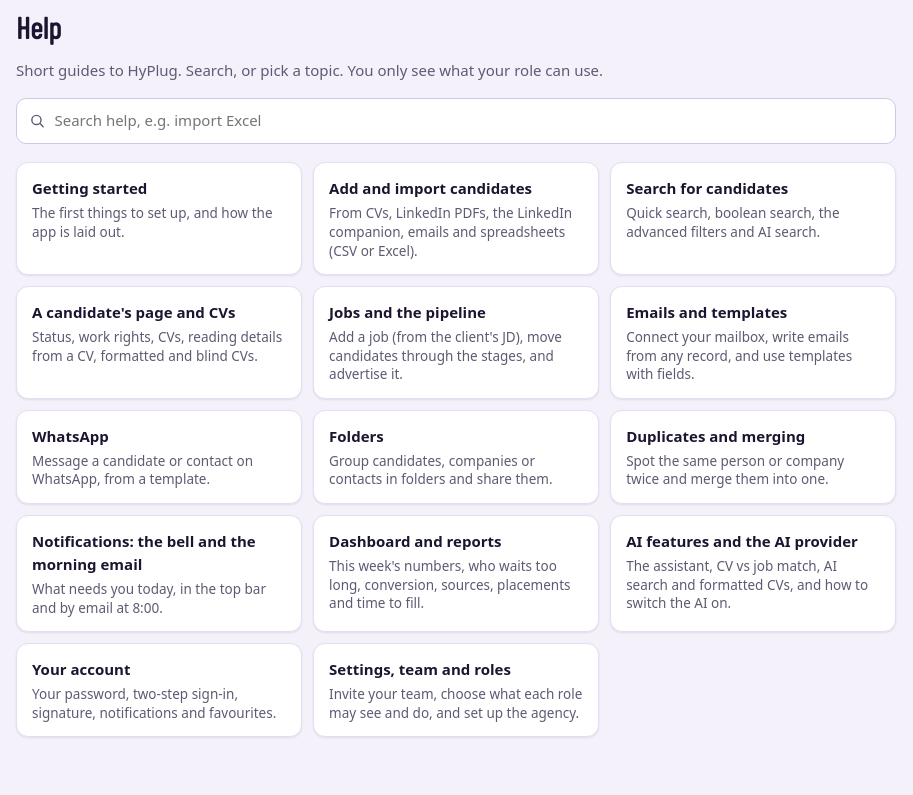
the help page › says when nothing matches, and still offers the topics
Type "spaceship" into the search field labelled "Search help" at {"x": 456, "y": 120}, box x1=16 y1=98 x2=896 y2=144
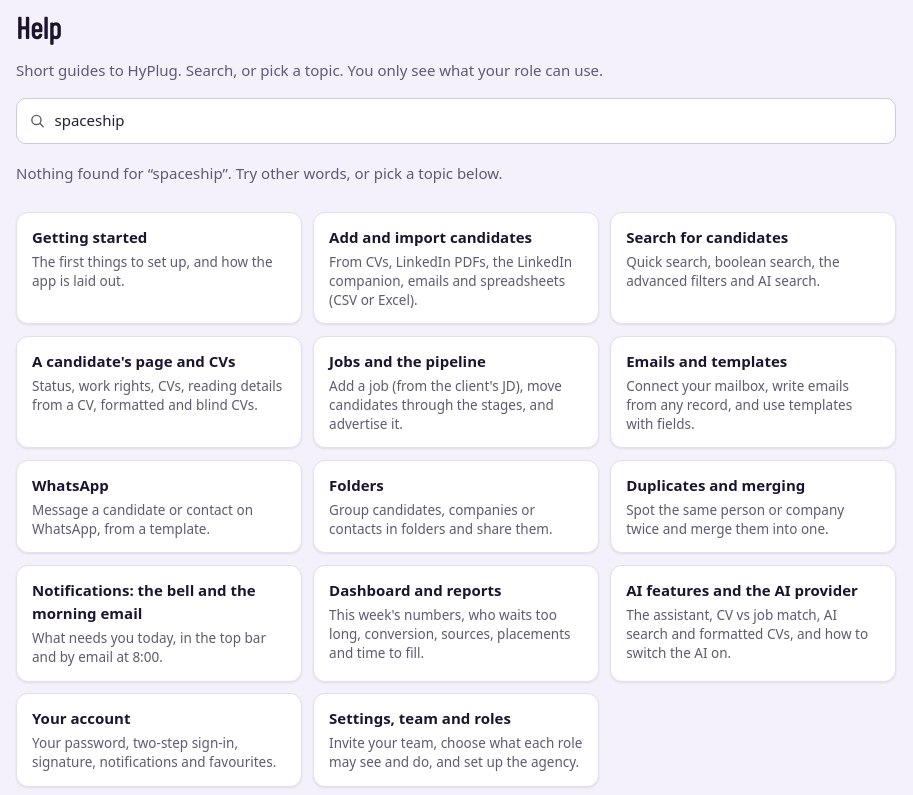
Expected: the message shows "Nothing found for “spaceship”", x1=16 y1=163 x2=502 y2=183
